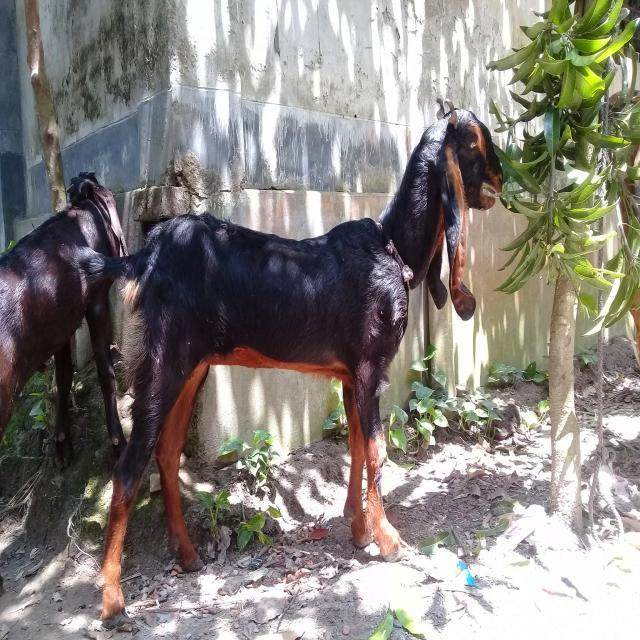Goat: (72, 101, 505, 621), (1, 170, 131, 471)
